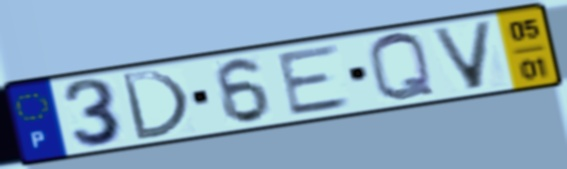3: (61, 77, 127, 150)
6: (211, 55, 276, 127)
D: (117, 68, 193, 143)
E: (274, 41, 356, 119)
Q: (365, 31, 440, 105)
V: (427, 18, 498, 93)
